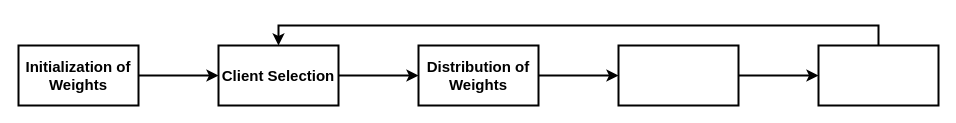
This 956x123 diagram has some shape labels left out. Here are the shapes that lost their labels. From the top down, the box of each, then its label:
(617, 44, 739, 106): Update and Upload of Weights
(817, 44, 939, 106): Aggregation
